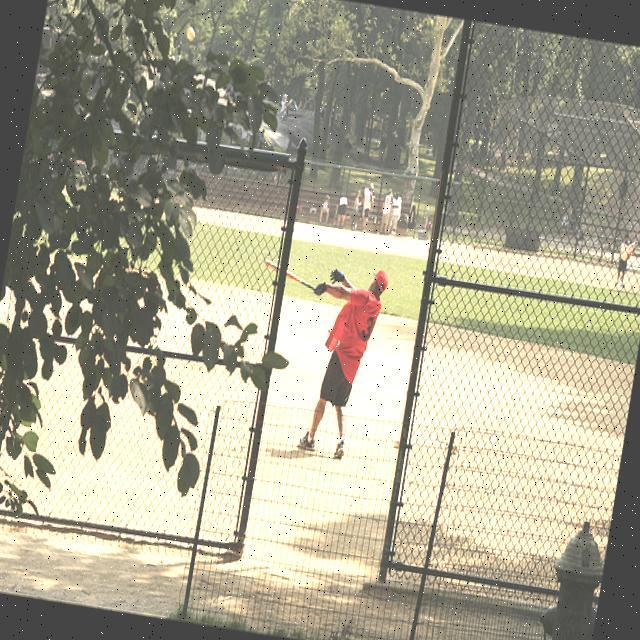fire_hydrant: (531, 515, 611, 640)
